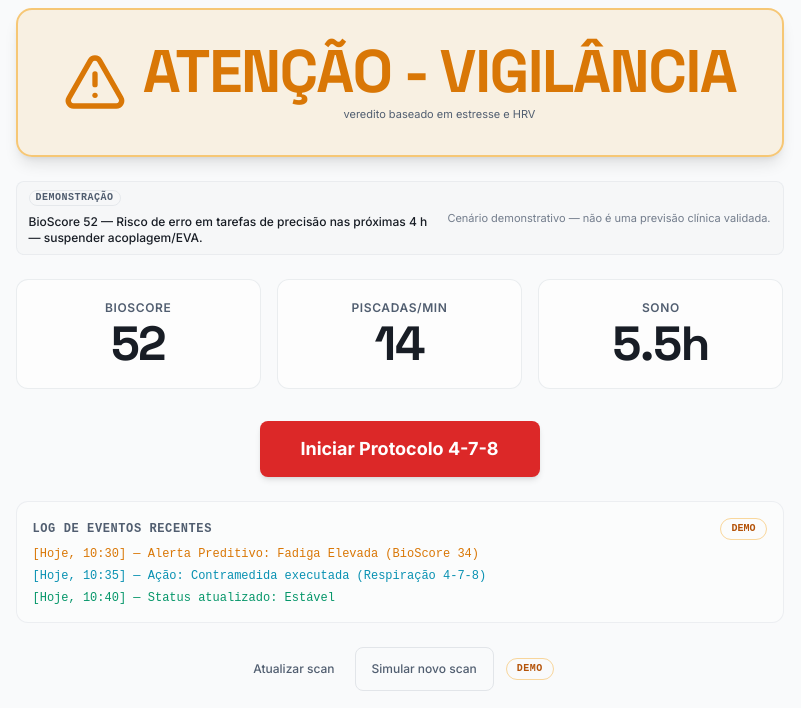
it: BridgeConsole - Cockpit de 3 Níveis › Etapas da Demo no Cockpit (sem recarregar a página) › registrar protocolo muda NO-GO para ATENÇÃO e "Simular novo scan" muda para GO
Expected: the text "ATENÇÃO - VIGILÂNCIA" is shown, [143,42,736,102]
Click the button "Simular novo scan" at (424, 668), box [354,646,494,690]
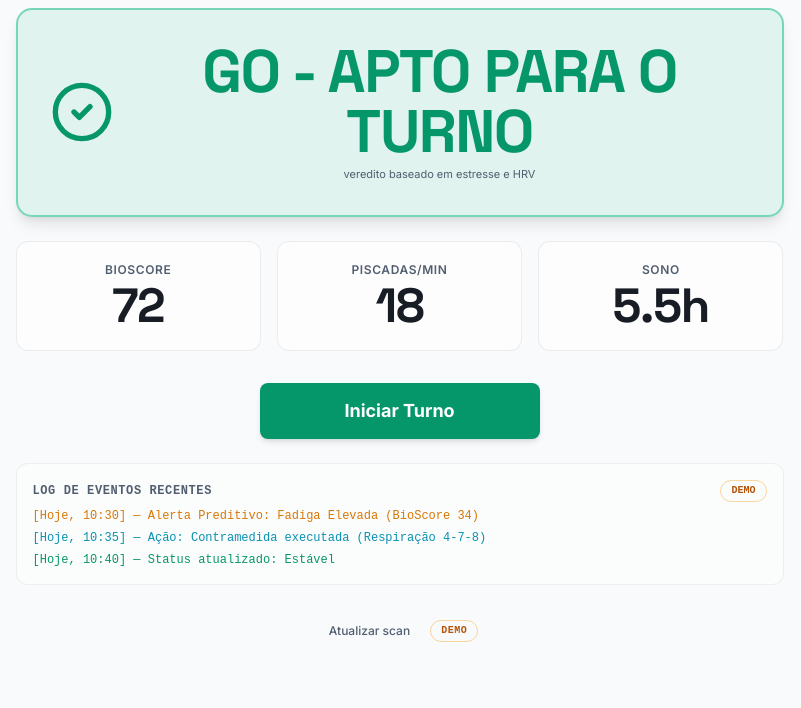
Now the text "GO - APTO PARA O TURNO" is shown, box [202,33,677,170]
